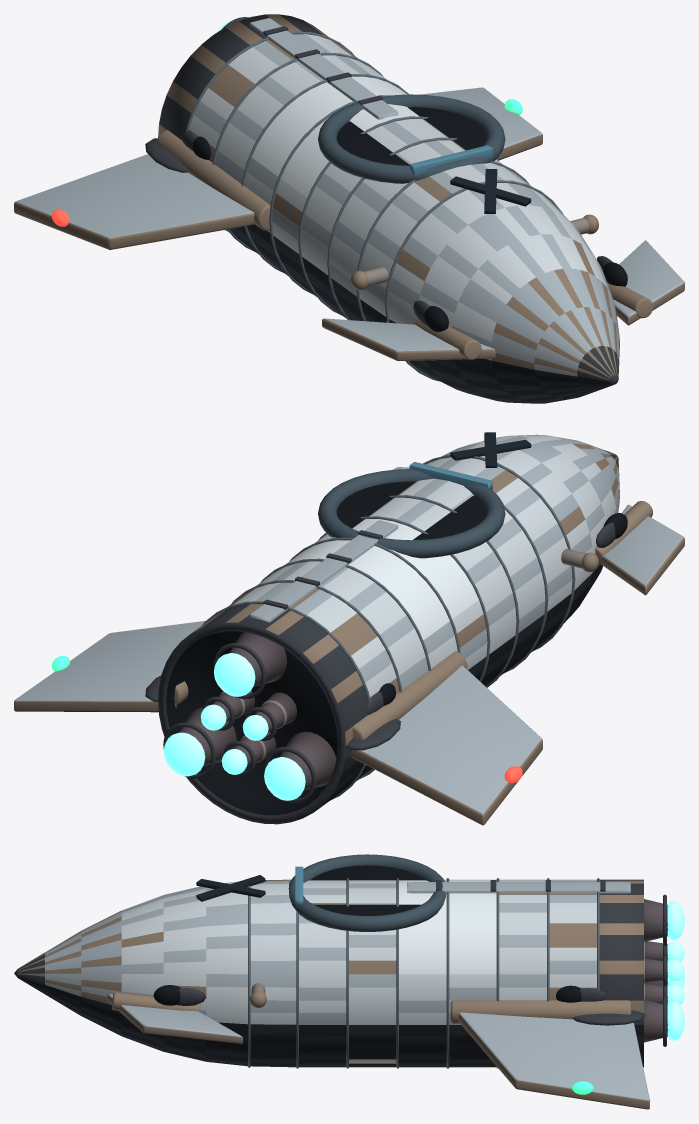
The model's file is houston_ship.glb.
3 views of the same model, one above another, from view 1: azimuth 30°, elevation 25°; view 2: azimuth 150°, elevation 25°; view 3: azimuth 270°, elevation 25° (orthographic). The views are drawn at different scales.
Parts seen in each view (by area): view 1: HoustonShip; view 2: HoustonShip; view 3: HoustonShip.
Part boxes in pixels (bbox=[...]): HoustonShip: bbox=[14, 14, 684, 403]; HoustonShip: bbox=[14, 432, 684, 825]; HoustonShip: bbox=[14, 854, 684, 1109].
Size of the model in its own units: 5.15 by 2.14 by 7.36.
